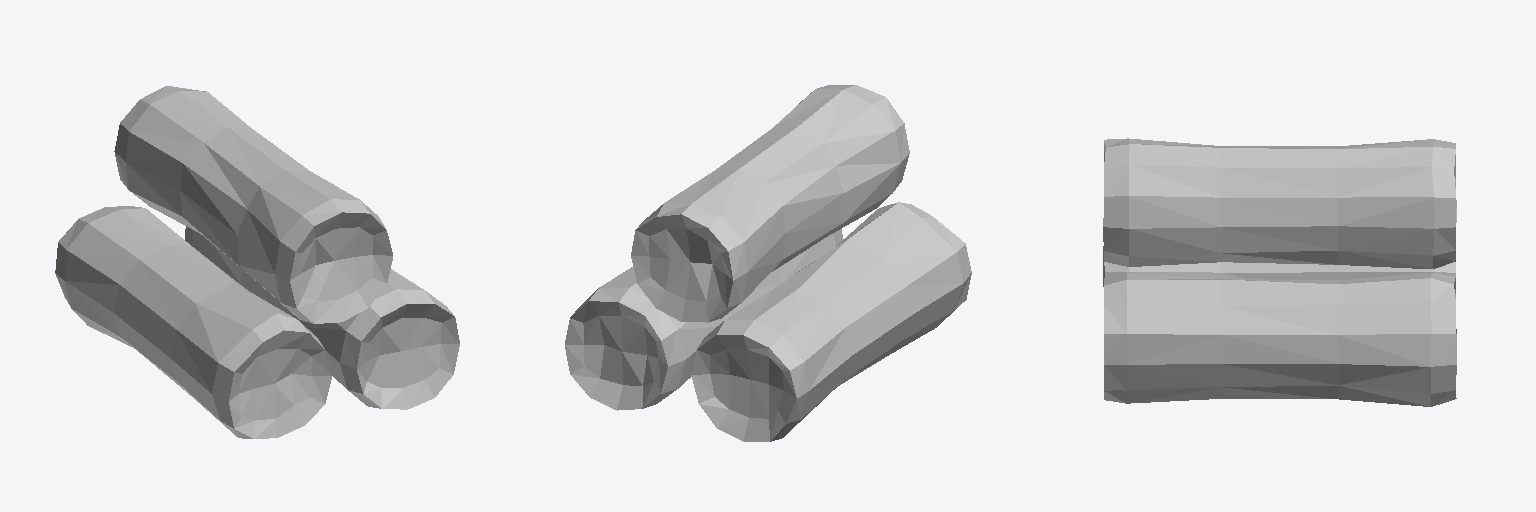
Rendered from Logs_Normal_low.obj.
The picture shows the model from 3 angles: view 1: azimuth 30°, elevation 25°; view 2: azimuth 150°, elevation 25°; view 3: azimuth 270°, elevation 25°; orthographic projection.
Parts seen in each view (by area): view 1: Group43081; view 2: Group43081; view 3: Group43081.
Boxes of the visible parts, box(x1,y1,x2,y2) form: Group43081: box(55, 86, 459, 438); Group43081: box(565, 85, 971, 441); Group43081: box(1103, 138, 1456, 406).
Bounding box in the file's own units: 57.55 × 51.24 × 73.45.